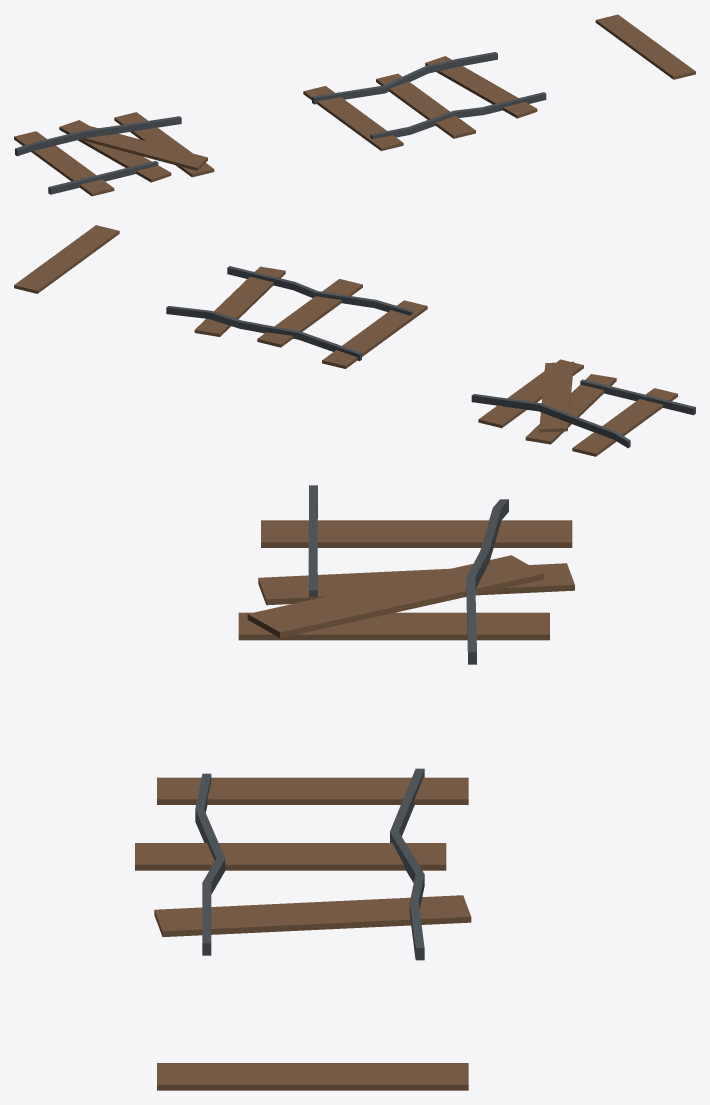
Rendered from station_tracks.fbx.
3 views of the same model, one above another, from view 1: azimuth 30°, elevation 25°; view 2: azimuth 150°, elevation 25°; view 3: azimuth 270°, elevation 25° (orthographic). The views are drawn at different scales.
Visible parts, largest first — view 1: tracks_shortBroke, tracks_short, track; view 2: tracks_short, tracks_shortBroke, track; view 3: tracks_shortBroke, tracks_short, track.
Boxes of the visible parts, x1,y1,x2,y2 form: tracks_shortBroke: (14, 112, 214, 196); tracks_short: (303, 52, 546, 150); track: (595, 14, 695, 79); tracks_short: (166, 266, 427, 368); tracks_shortBroke: (471, 359, 695, 456); track: (14, 225, 119, 293); tracks_shortBroke: (238, 485, 574, 664); tracks_short: (135, 768, 471, 960); track: (157, 1063, 468, 1090).
Size of the model in its own units: 1894 by 37.05 by 594.
